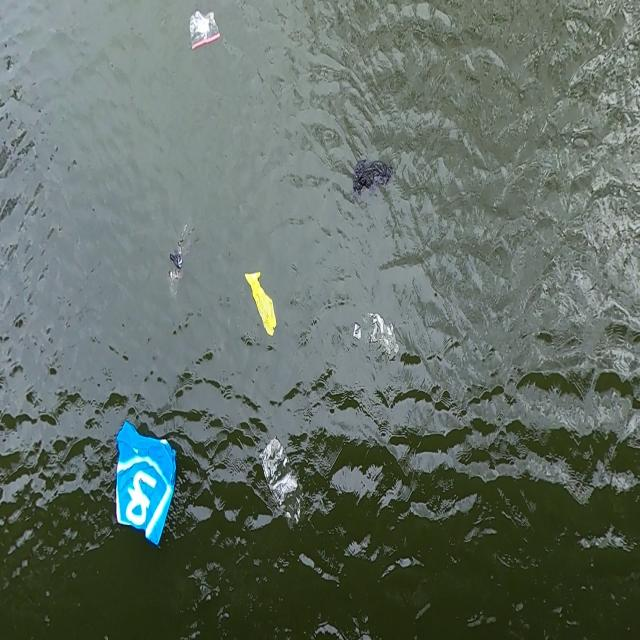Sac plastique: (112, 418, 182, 554), (258, 436, 304, 534), (242, 266, 282, 340), (353, 310, 404, 366), (352, 154, 396, 204), (167, 220, 194, 288), (187, 7, 225, 55)
